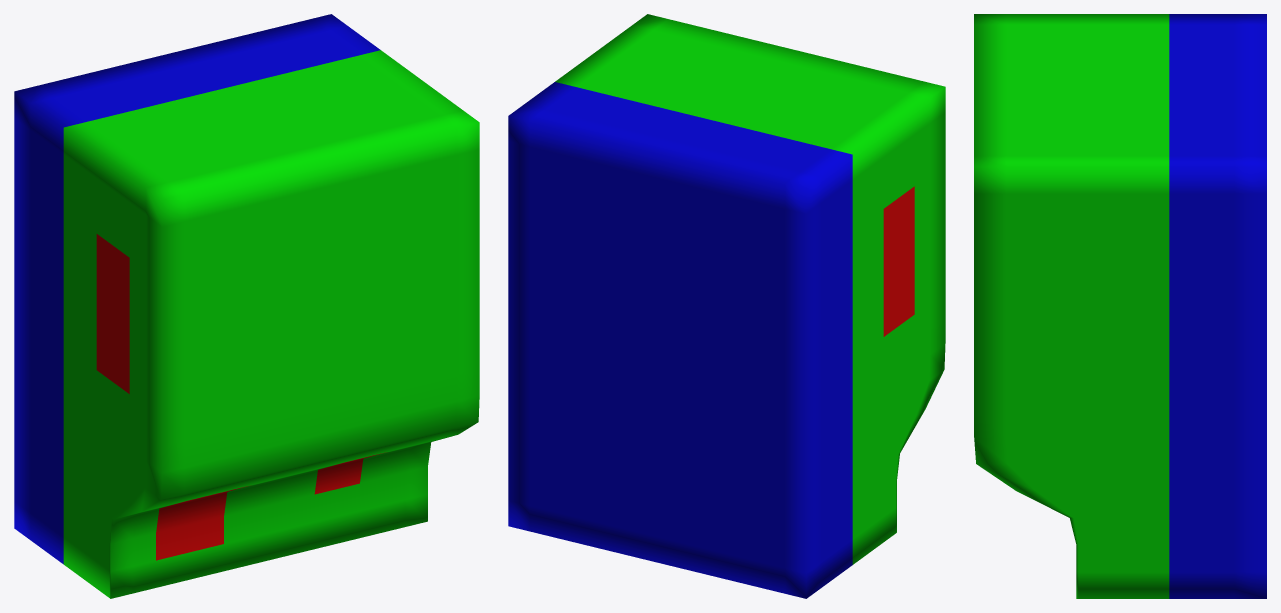
File: Ch_wipeMich-l_A_body02.fbx
3 renders of one model, left to right at view 1: azimuth 30°, elevation 25°; view 2: azimuth 150°, elevation 25°; view 3: azimuth 270°, elevation 25°, orthographic. The views are drawn at different scales.
Visible parts, largest first — view 1: ch_wipeMichelA_body02; view 2: ch_wipeMichelA_body02; view 3: ch_wipeMichelA_body02.
Part boxes in pixels (box(x1,y1,x2,y2)): ch_wipeMichelA_body02: box(14, 14, 479, 598); ch_wipeMichelA_body02: box(508, 14, 945, 598); ch_wipeMichelA_body02: box(974, 14, 1266, 598).
Bounding box in the file's own units: 44.42 × 58.49 × 35.92.
